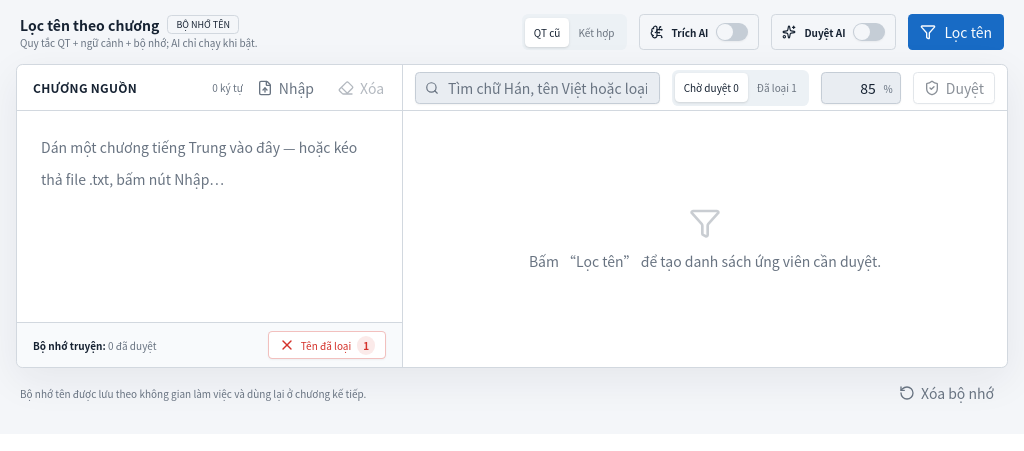
Test: name filter mode preference › shows rejected names and restores them to the review queue
Click the tab "Đã loại 1" at (777,88), box x1=748 y1=73 x2=806 y2=102
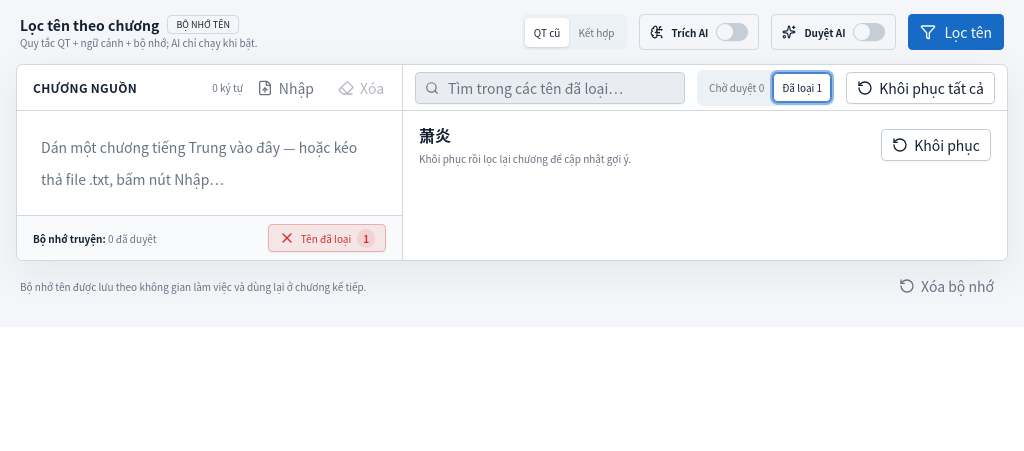
expect the text "萧炎" is shown: met, box x1=419 y1=123 x2=451 y2=147
Click the button with aria-label "Khôi phục 萧炎" at (936,144), box x1=881 y1=128 x2=991 y2=160
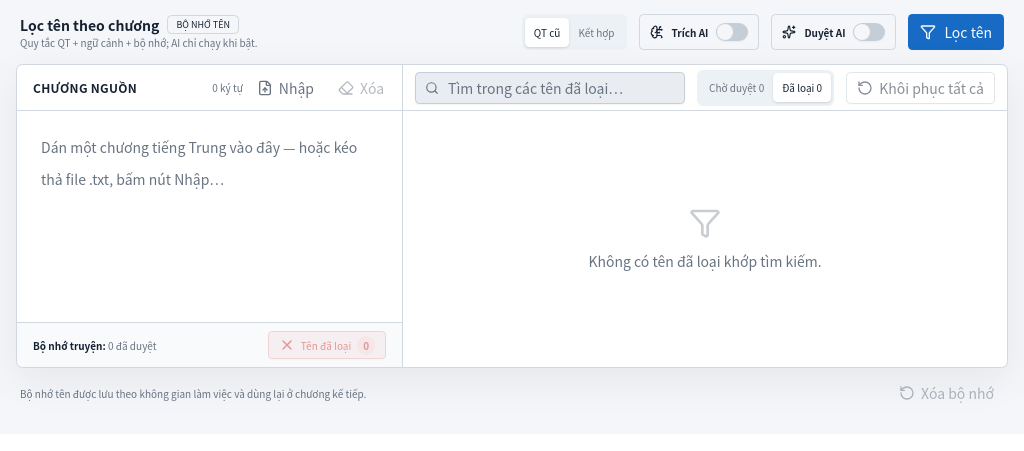
expect the tab "Đã loại 0" is shown: met, box x1=773 y1=73 x2=831 y2=102
